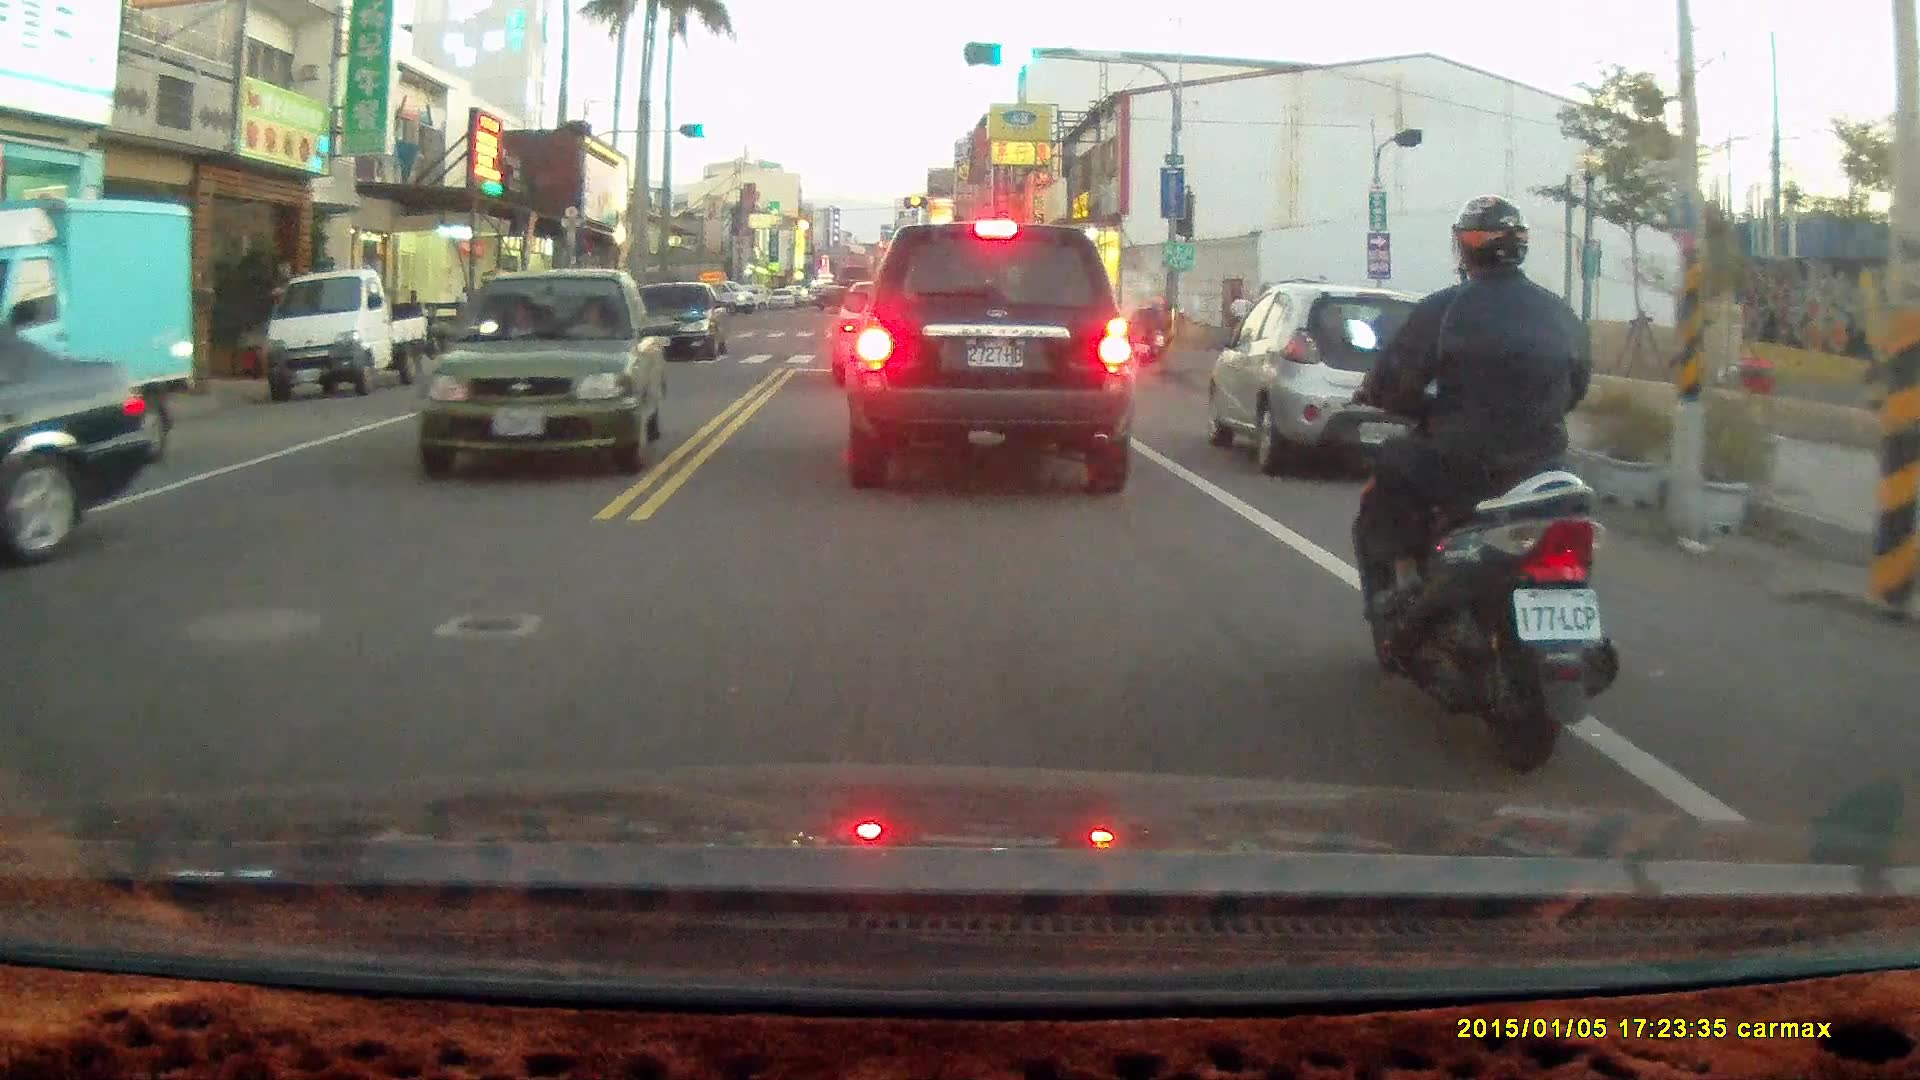pedestrian: (1224, 287, 1252, 359)
rider: (1343, 196, 1625, 782), (1135, 292, 1180, 366)
vehicle: (844, 223, 1138, 495), (1206, 282, 1484, 485), (1, 195, 202, 461), (418, 267, 665, 474), (1, 325, 156, 568), (260, 268, 433, 400), (621, 282, 732, 366)
